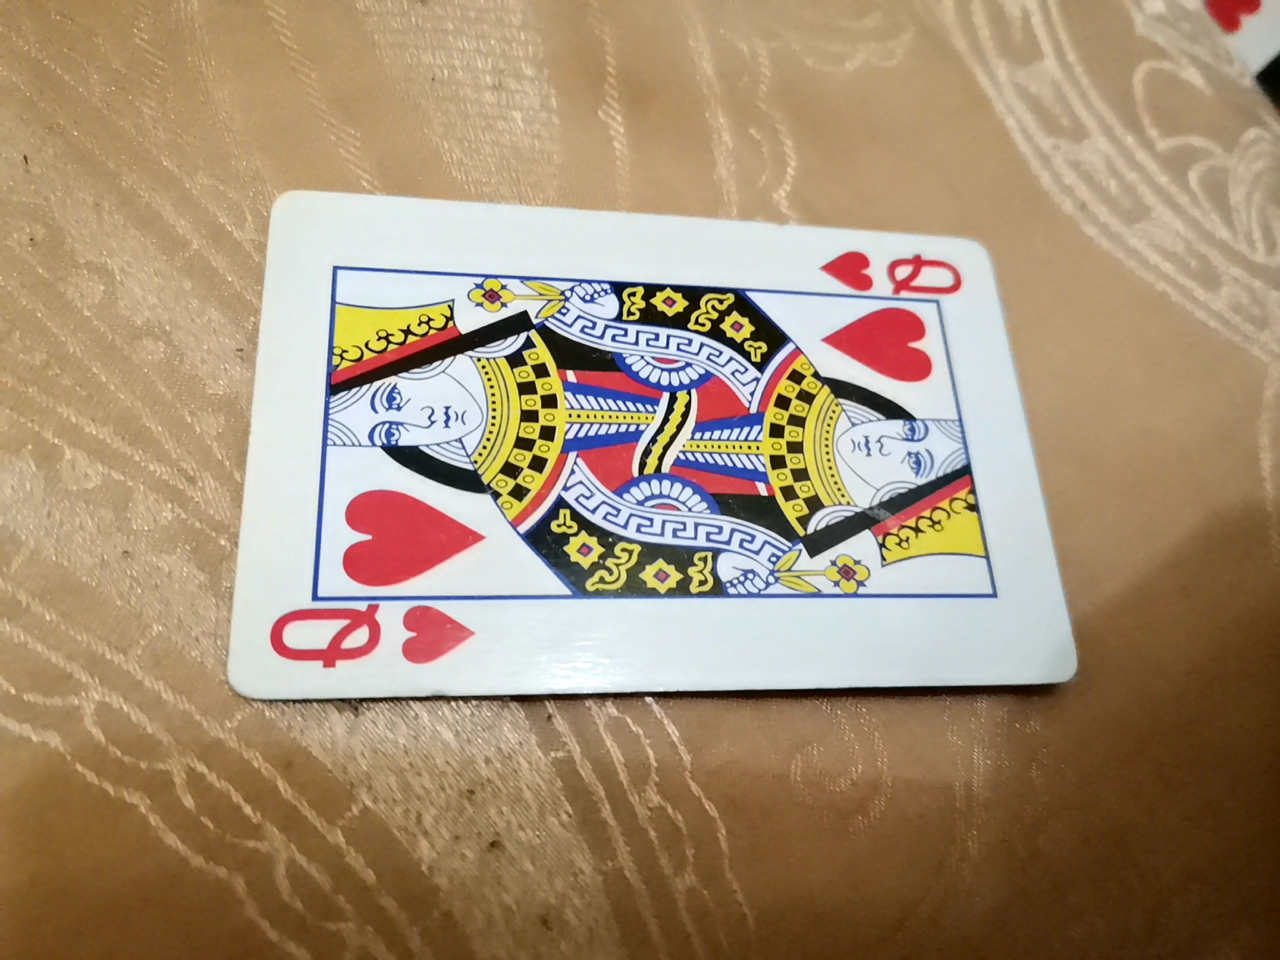hx q: (268, 189, 1094, 687)
